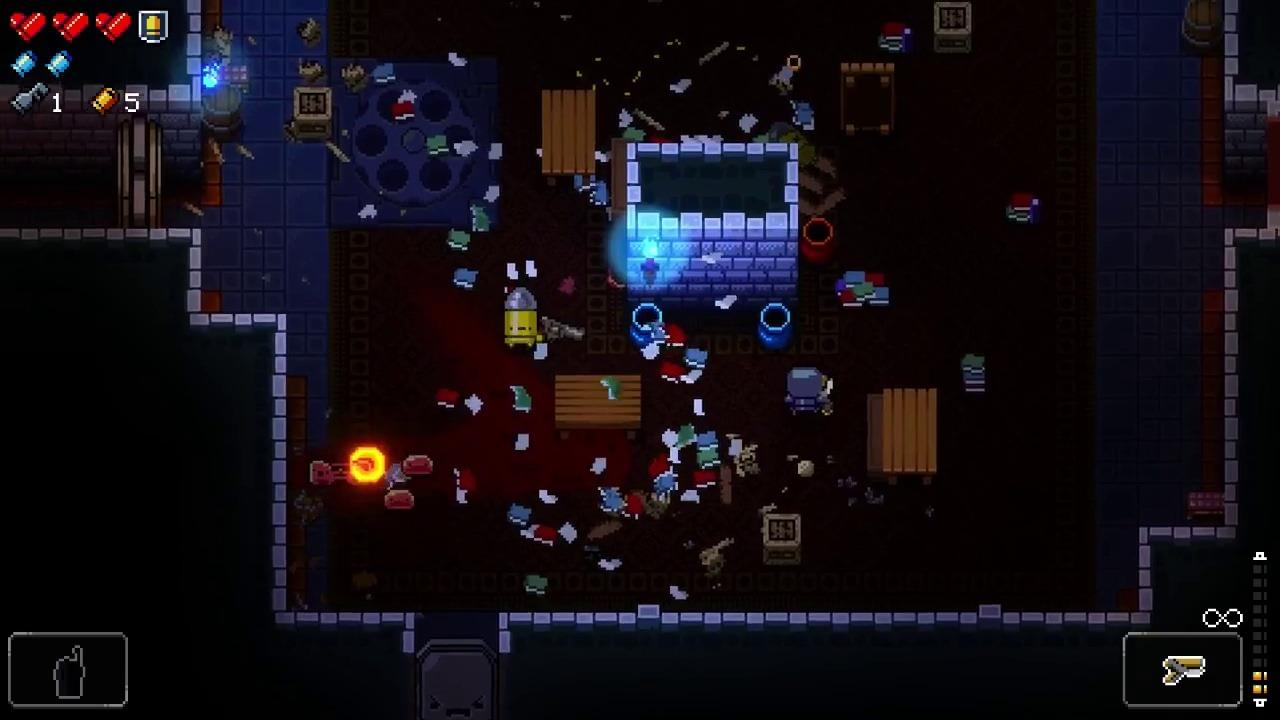blobulin_s: (309, 459, 337, 487), (384, 490, 416, 511), (401, 456, 434, 476)
bullet_kin: (505, 289, 541, 346)
locked_door: (417, 640, 497, 720), (120, 114, 162, 229)
player: (787, 367, 823, 415)
table: (554, 375, 642, 440), (543, 89, 597, 186), (883, 391, 937, 486), (841, 64, 896, 138)
teleporter: (331, 60, 499, 231)
